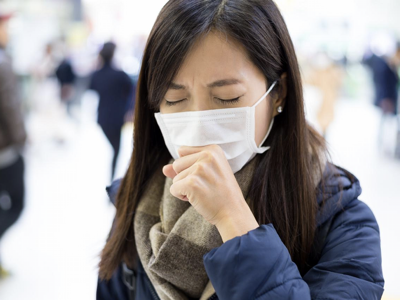with_mask: (154, 75, 268, 176)
